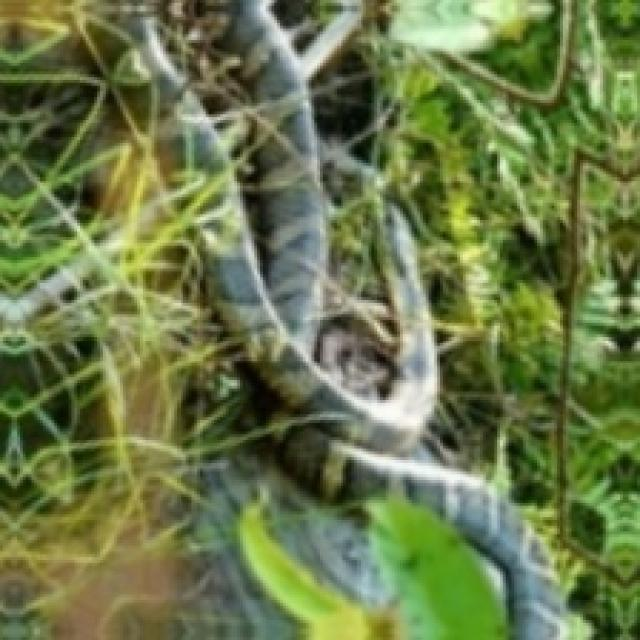king cobra: (0, 0, 629, 637)
